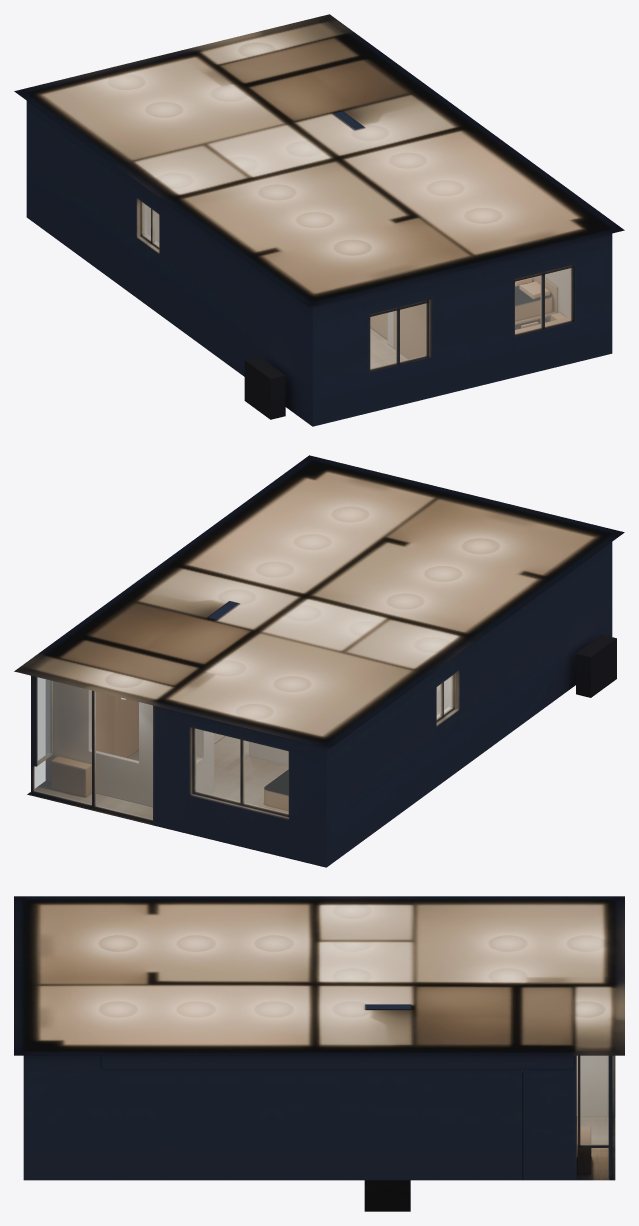
3 renders of one model, top to bottom at view 1: azimuth 30°, elevation 25°; view 2: azimuth 150°, elevation 25°; view 3: azimuth 270°, elevation 25°, orthographic. The views are drawn at different scales.
Parts seen in each view (by area): view 1: 天花板, 房子, 玻璃2, 玻璃3, 地板; view 2: 天花板, 房子, 玻璃5, 玻璃4, 地板, 玻璃1; view 3: 天花板, 房子, 玻璃1, 地板.
Boxes of the visible parts, <box> form: 天花板: <box>14,14,624,307</box>; 房子: <box>26,101,612,426</box>; 玻璃2: <box>370,303,426,369</box>; 玻璃3: <box>515,268,570,333</box>; 地板: <box>370,318,549,368</box>; 天花板: <box>14,455,624,748</box>; 房子: <box>31,542,616,867</box>; 玻璃5: <box>34,677,152,819</box>; 玻璃4: <box>196,729,288,813</box>; 地板: <box>27,733,321,866</box>; 玻璃1: <box>38,678,50,761</box>; 天花板: <box>14,896,624,1055</box>; 房子: <box>23,1004,614,1211</box>; 玻璃1: <box>580,1056,608,1144</box>; 地板: <box>522,1056,615,1180</box>.
Size of the model in its own units: 8.11 by 3.8 by 12.54.
3 materials, 2 textured.
